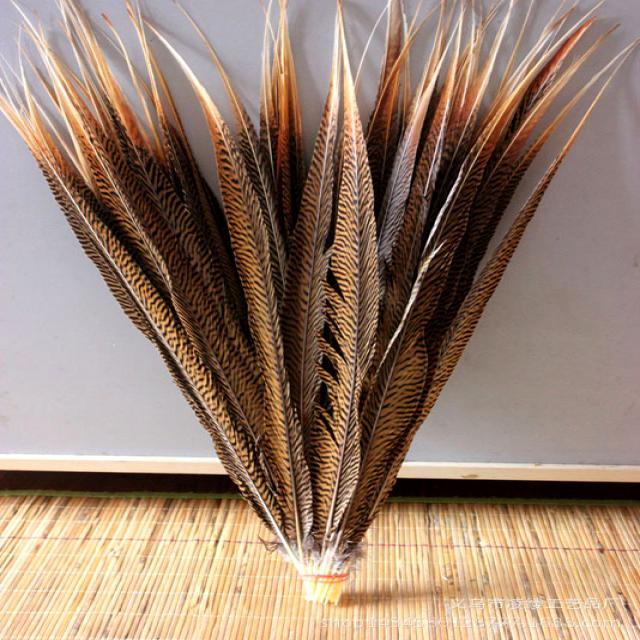Chrysolophus pictus feather: (0, 0, 591, 600)
Reeves-s Pheasant: (0, 0, 634, 601)
